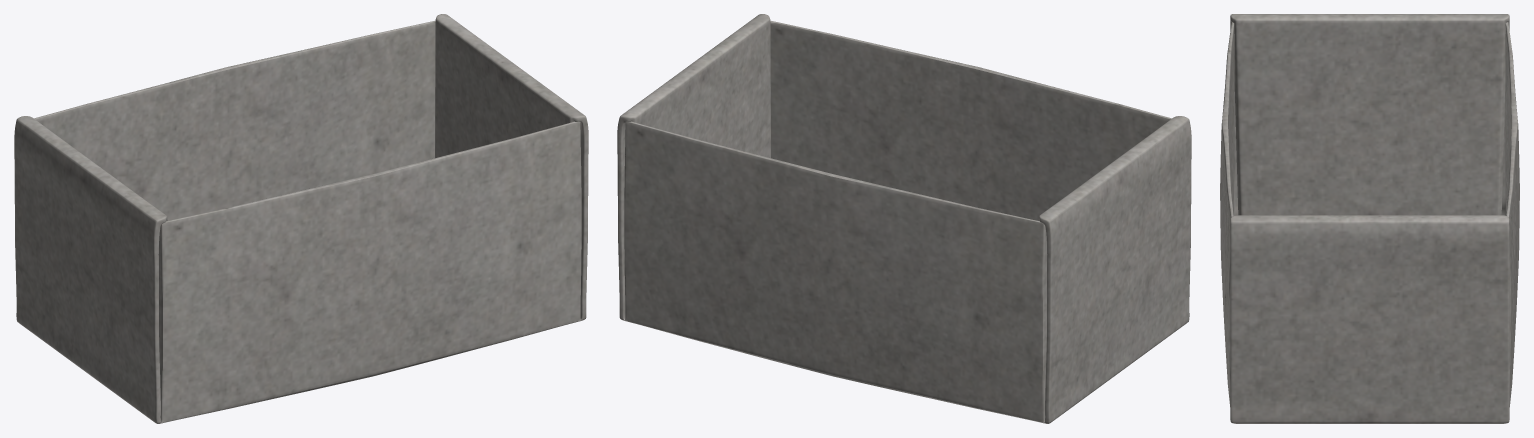
Rendered from 04 - KOMPLEMENT Box - light grey 15x27x12 cm.glb.
3 renders of one model, left to right at view 1: azimuth 30°, elevation 25°; view 2: azimuth 150°, elevation 25°; view 3: azimuth 270°, elevation 25°, orthographic.
Parts seen in each view (by area): view 1: 10404053-KOMPLEMENT001; view 2: 10404053-KOMPLEMENT001; view 3: 10404053-KOMPLEMENT001.
Boxes of the visible parts, bbox=[...] form: 10404053-KOMPLEMENT001: bbox=[14, 14, 588, 423]; 10404053-KOMPLEMENT001: bbox=[617, 14, 1191, 423]; 10404053-KOMPLEMENT001: bbox=[1220, 14, 1519, 423].
Bounding box in the file's own units: 0.2678 × 0.122 × 0.161.
Materials: 1 (1 with a texture image).
